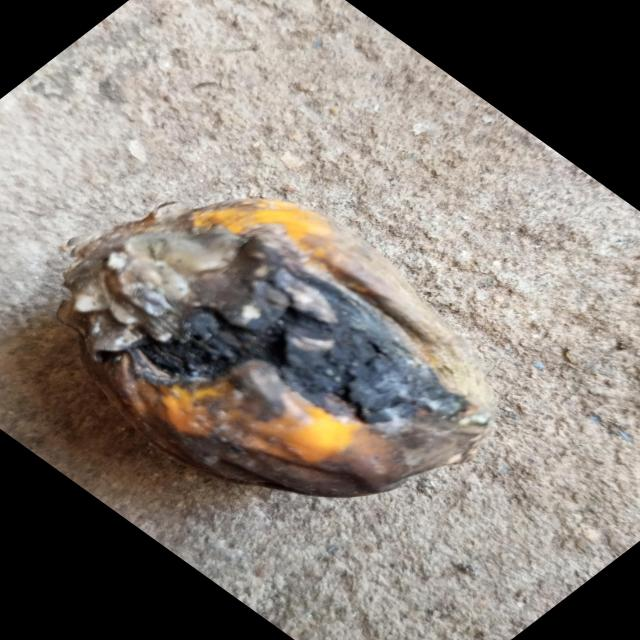damaged: (59, 198, 493, 497)
